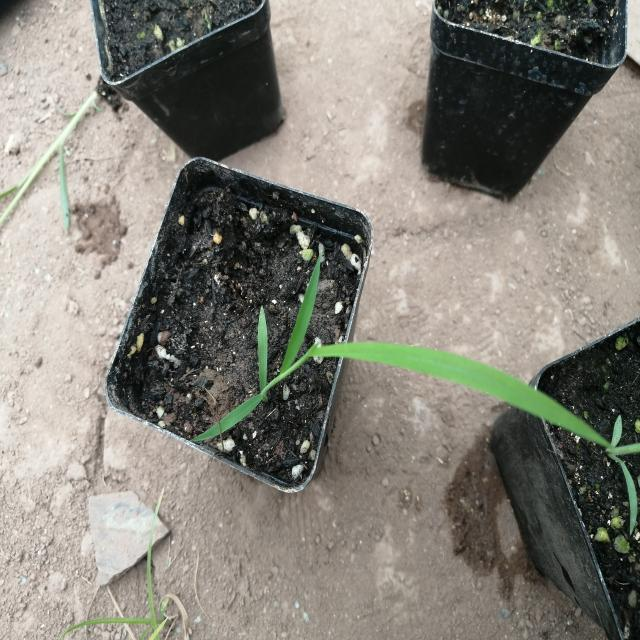crabgrass: (210, 288, 572, 462)
